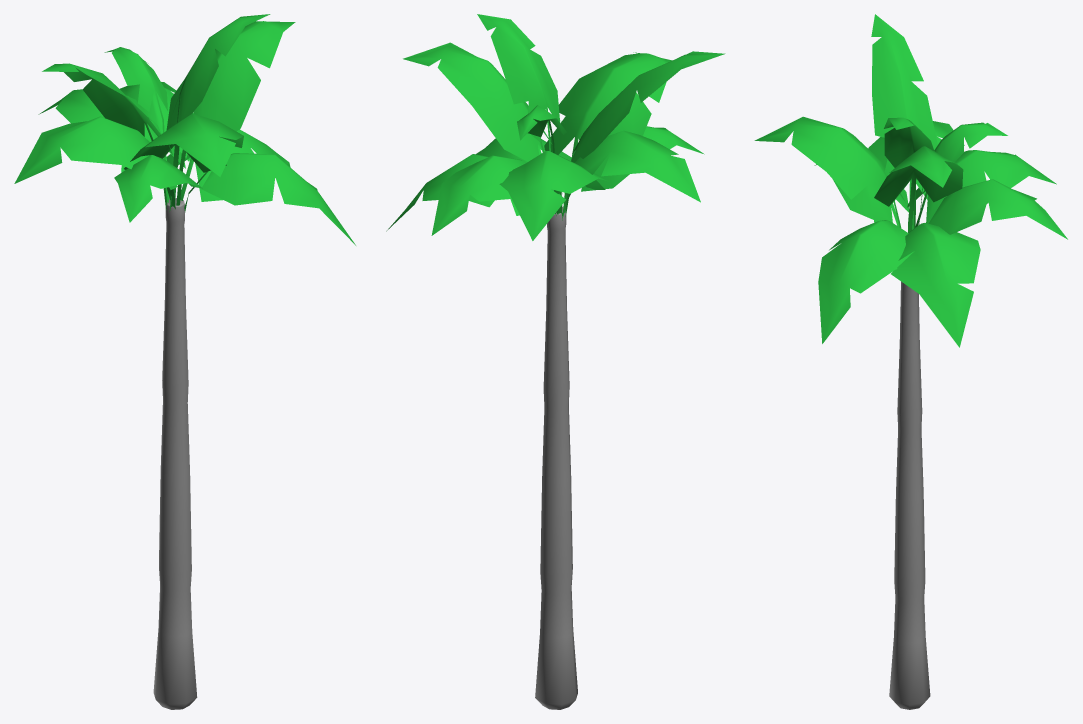
File: Mesh_Beach_Palm02.fbx
3 views of the same model, side by side, from view 1: azimuth 30°, elevation 25°; view 2: azimuth 150°, elevation 25°; view 3: azimuth 270°, elevation 25° (orthographic). The views are drawn at different scales.
Parts seen in each view (by area): view 1: Mesh_Beach_Palm02; view 2: Mesh_Beach_Palm02; view 3: Mesh_Beach_Palm02.
Part boxes in pixels (x1,y1,x2,y2): Mesh_Beach_Palm02: (14,14,355,709); Mesh_Beach_Palm02: (386,14,725,709); Mesh_Beach_Palm02: (754,14,1067,709).
Bounding box in the file's own units: 6.42 × 13.94 × 6.38.
